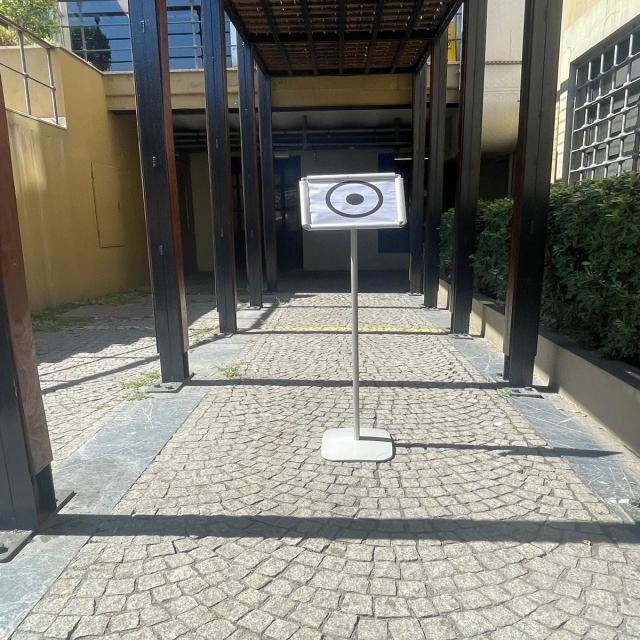Target: (292, 168, 419, 234)
inner: (339, 188, 370, 212)
